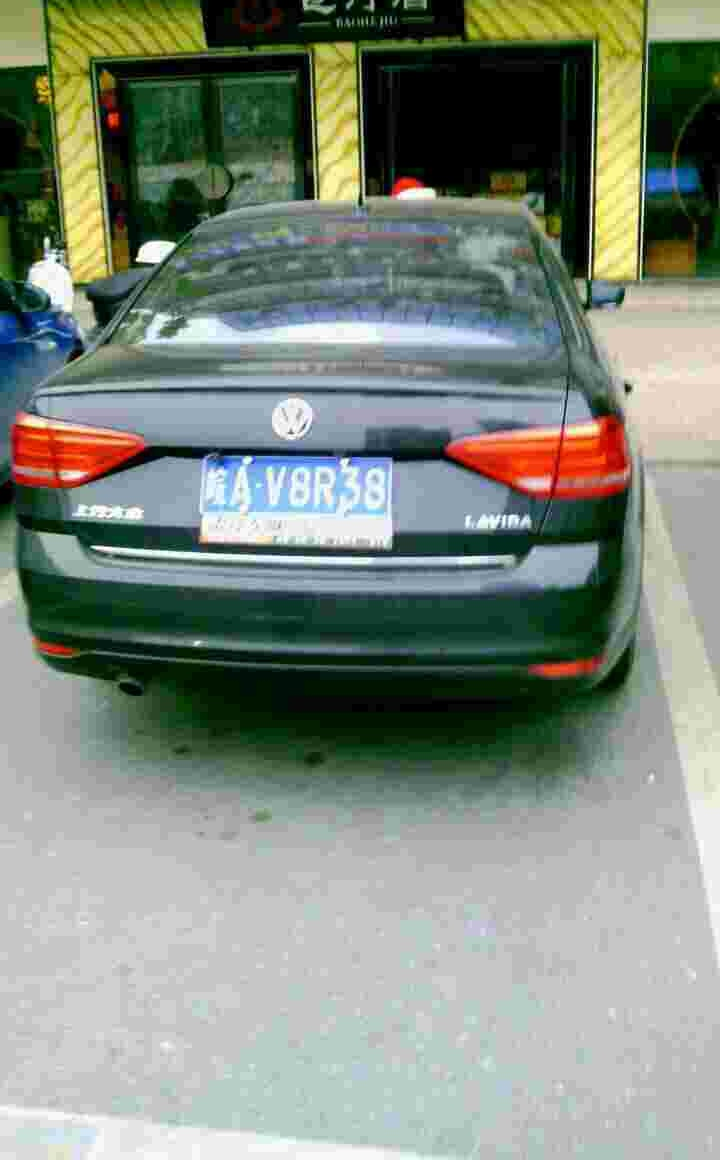licence plate: (191, 444, 398, 530)
